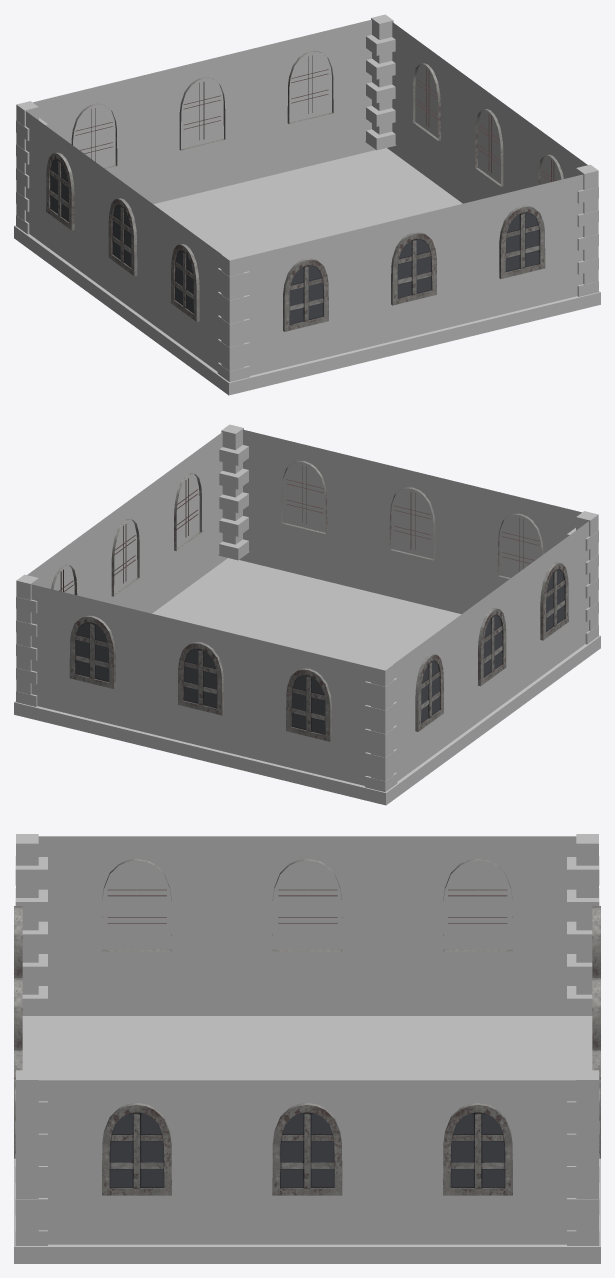
The model's file is sb_obj_outdoor001_Castle01_wall03.fbx.
3 renders of one model, top to bottom at view 1: azimuth 30°, elevation 25°; view 2: azimuth 150°, elevation 25°; view 3: azimuth 270°, elevation 25°, orthographic. The views are drawn at different scales.
Parts seen in each view (by area): view 1: sb_obj_outdoor001_Castle01_wall03; view 2: sb_obj_outdoor001_Castle01_wall03; view 3: sb_obj_outdoor001_Castle01_wall03.
Boxes of the visible parts, <box> form: sb_obj_outdoor001_Castle01_wall03: <box>14,14,600,395</box>; sb_obj_outdoor001_Castle01_wall03: <box>14,424,600,805</box>; sb_obj_outdoor001_Castle01_wall03: <box>14,834,600,1263</box>.
Bounding box in the file's own units: 8.82 × 3.03 × 8.82.
